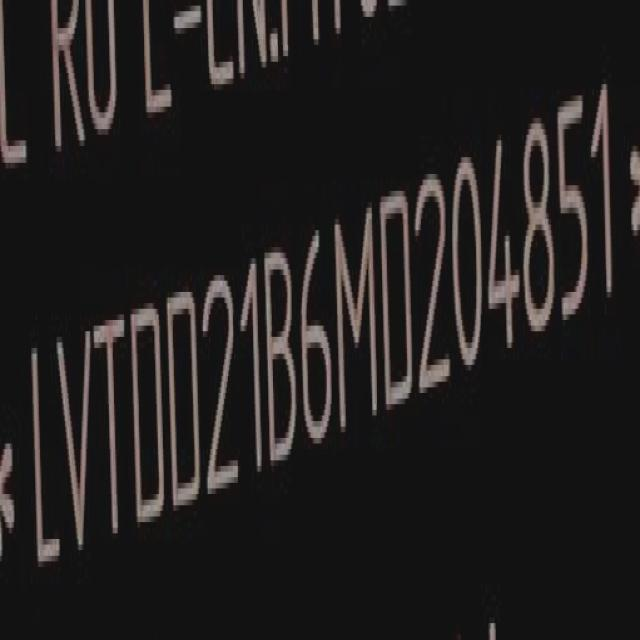0: (454, 151, 485, 374)
1: (594, 79, 618, 311), (240, 260, 262, 484)
2: (416, 172, 452, 400), (206, 276, 242, 500)
4: (486, 133, 522, 358)
5: (557, 86, 590, 329)
6: (302, 234, 336, 452)
8: (523, 114, 554, 342)
B: (264, 249, 298, 466)
D: (129, 300, 165, 530), (166, 284, 202, 514), (378, 187, 413, 418)
L: (27, 338, 59, 578)
M: (337, 204, 380, 432)
T: (97, 309, 130, 553)
V: (55, 327, 94, 566)
